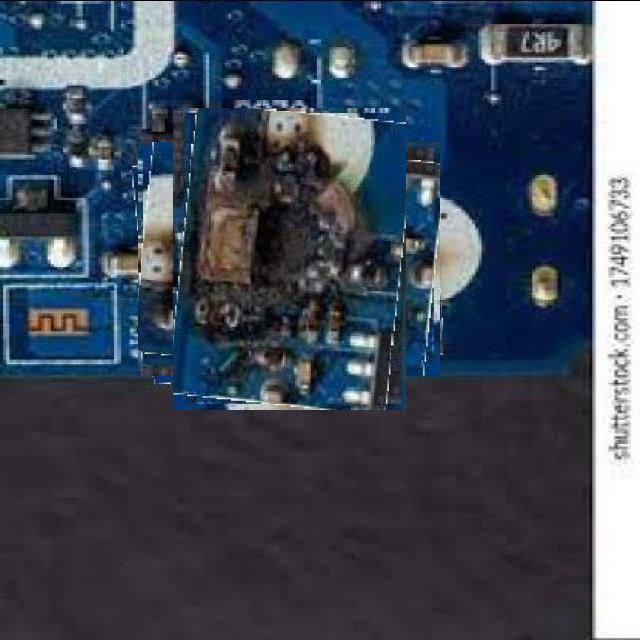damged: (155, 125, 423, 393)
